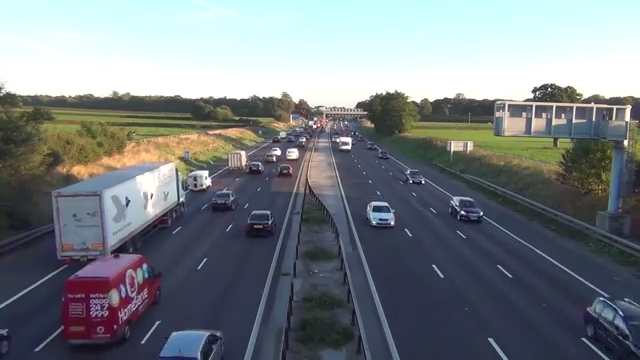car: (577, 286, 640, 360), (153, 321, 232, 360), (358, 192, 406, 234), (443, 190, 488, 228), (243, 202, 275, 243), (208, 183, 236, 214), (399, 161, 426, 189), (273, 159, 297, 181), (243, 157, 265, 177), (282, 144, 303, 162), (374, 145, 390, 163), (268, 143, 282, 160)
truck: (43, 160, 190, 263), (222, 145, 250, 175)
van: (58, 251, 165, 349), (185, 165, 215, 193), (333, 133, 354, 154)
